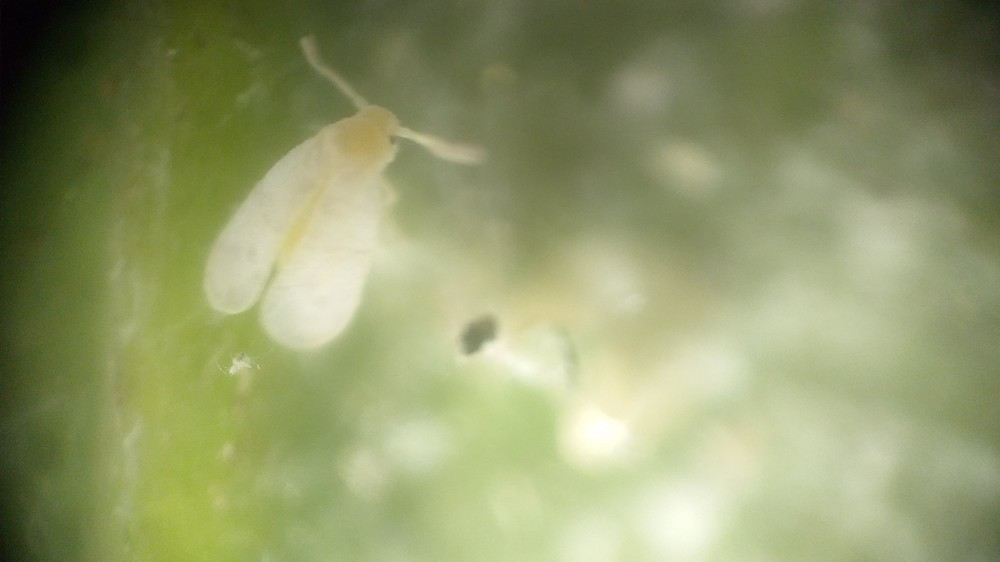Mosca Blanca: (183, 41, 496, 378)
